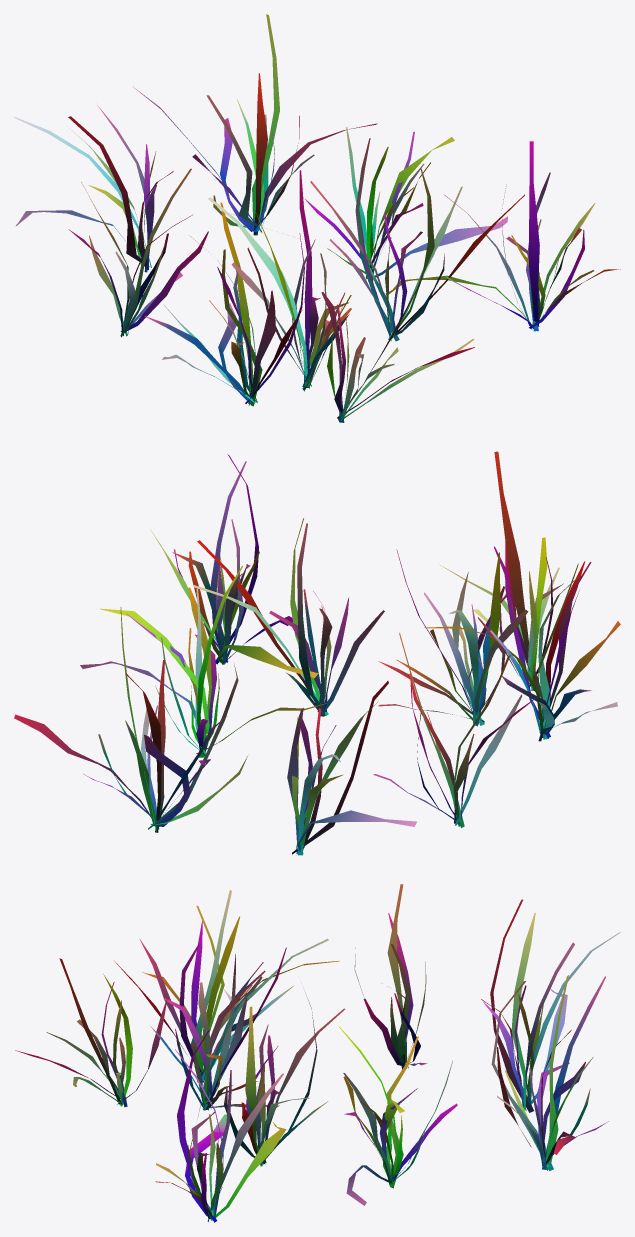
Rendered from Grass_Clumps_qmBr2_High_qmBr2_VarC_LOD0.fbx.
3 views of the same model, one above another, from view 1: azimuth 30°, elevation 25°; view 2: azimuth 150°, elevation 25°; view 3: azimuth 270°, elevation 25° (orthographic). The views are drawn at different scales.
Parts seen in each view (by area): view 1: _696d_VarC_LOD0; view 2: _696d_VarC_LOD0; view 3: _696d_VarC_LOD0.
Boxes of the visible parts, box(x1,y1,x2,y2) form: _696d_VarC_LOD0: box(14, 14, 620, 422); _696d_VarC_LOD0: box(14, 451, 620, 855); _696d_VarC_LOD0: box(15, 884, 620, 1222).
Size of the model in its own units: 55.58 by 25.16 by 67.05.
